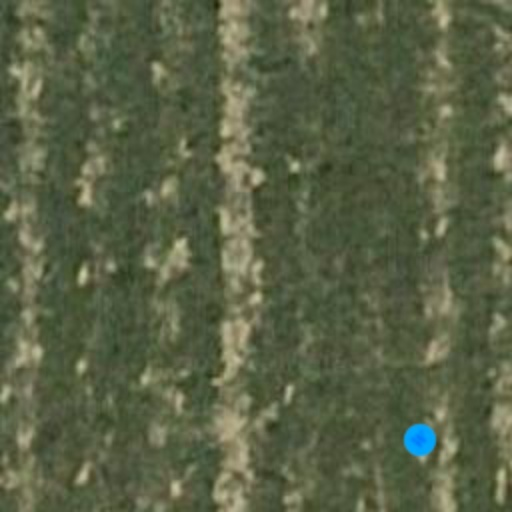circle: (396, 416, 444, 464)
